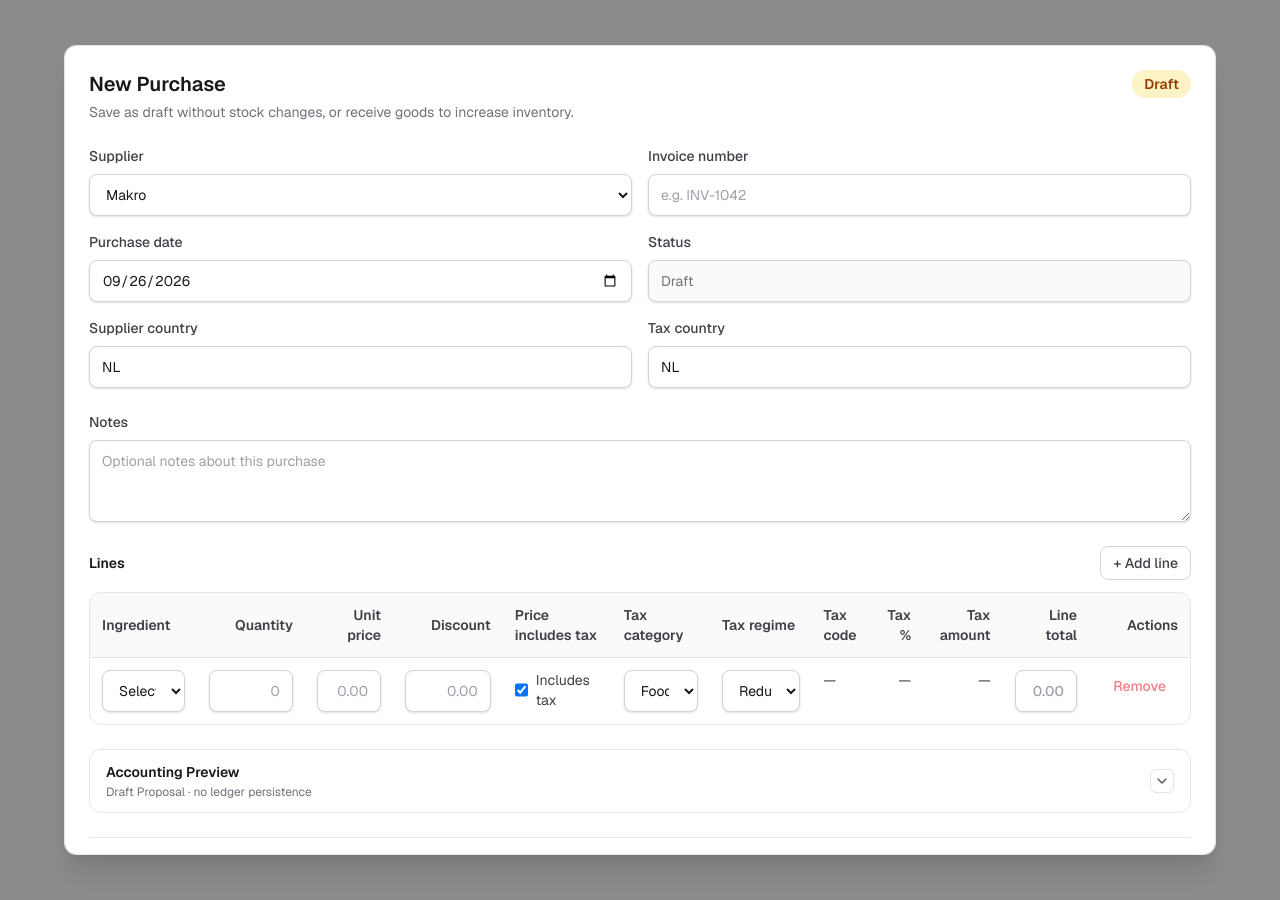
Test: PurchaseDocumentModal last price › keeps a price typed before the first ingredient is picked
Type "3" into the field named "Unit price".
click(349, 691); type("3")  # box [317,670,381,712]
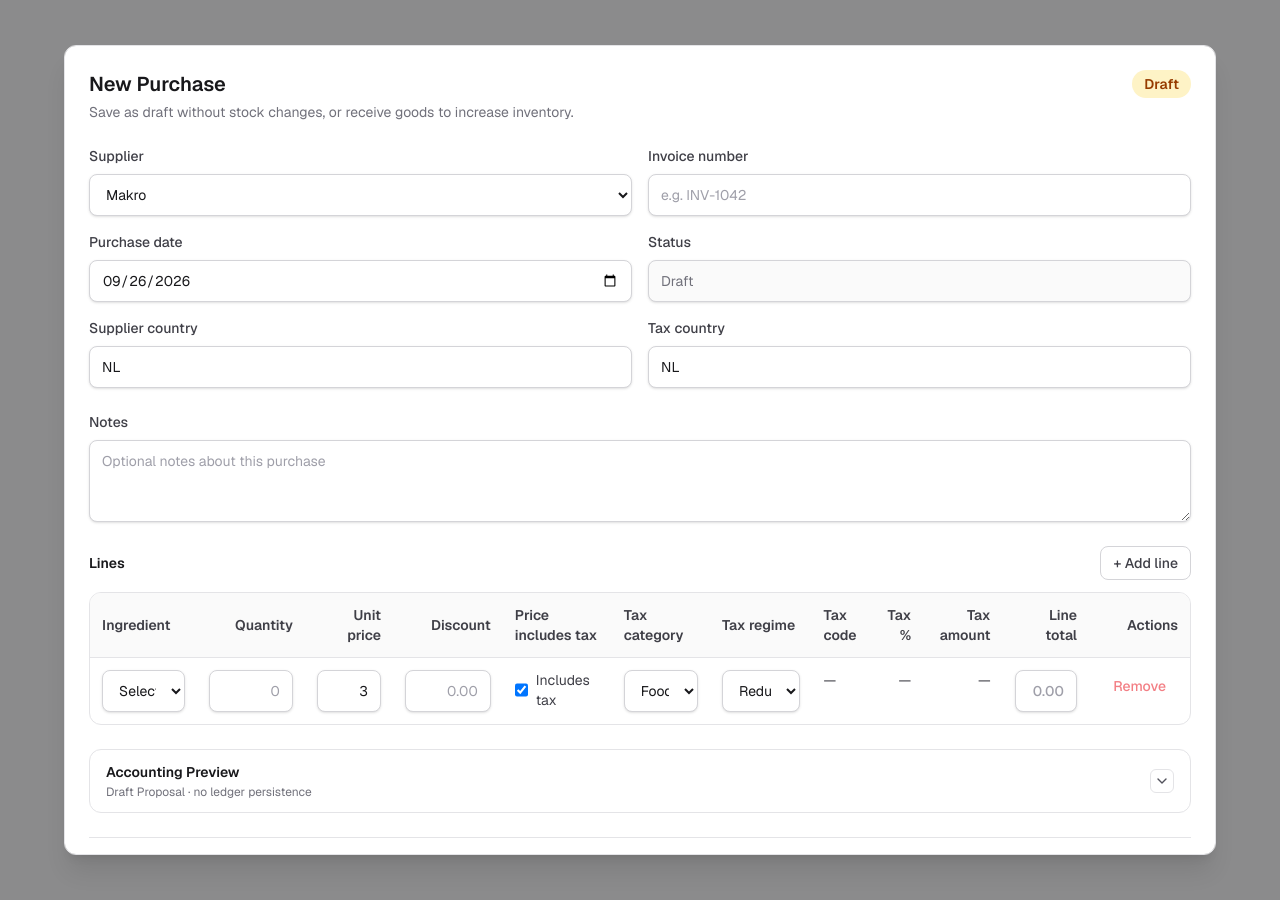
Select "Flour (kg)" in the 2nd dropdown at [143, 691], box [102,670,185,712]
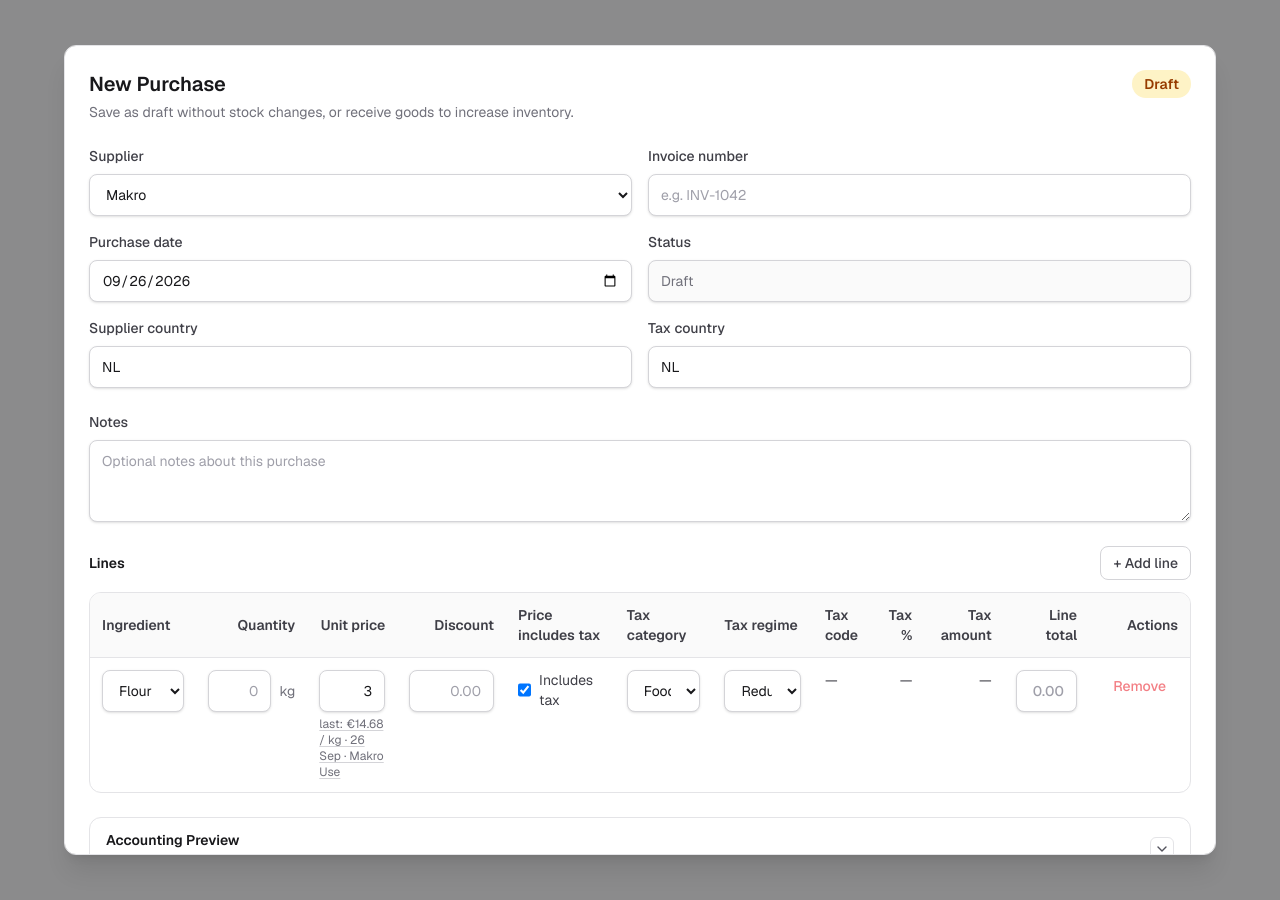
Result: the button "last: €14.68 / kg · 26 Sep · Makro Use" is shown at [319,716,385,780]
